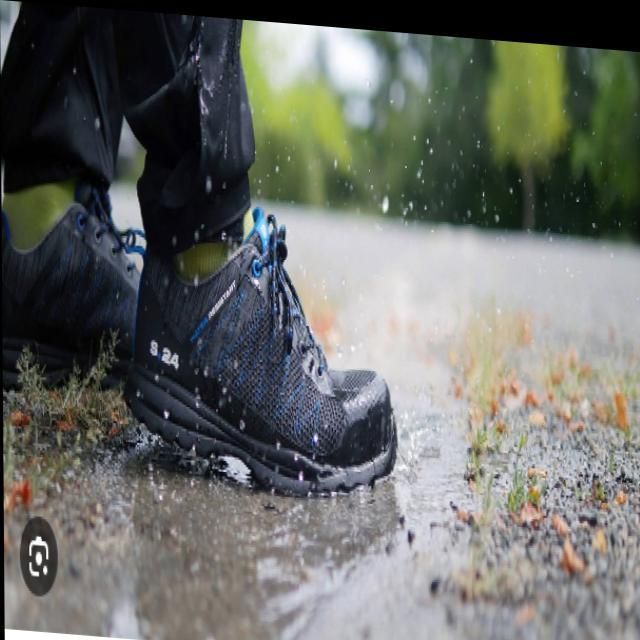boots: (2, 113, 401, 518)
